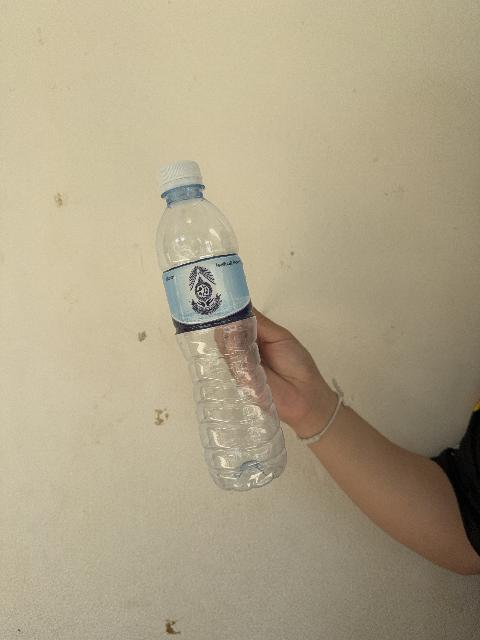bottle: (157, 161, 286, 490)
